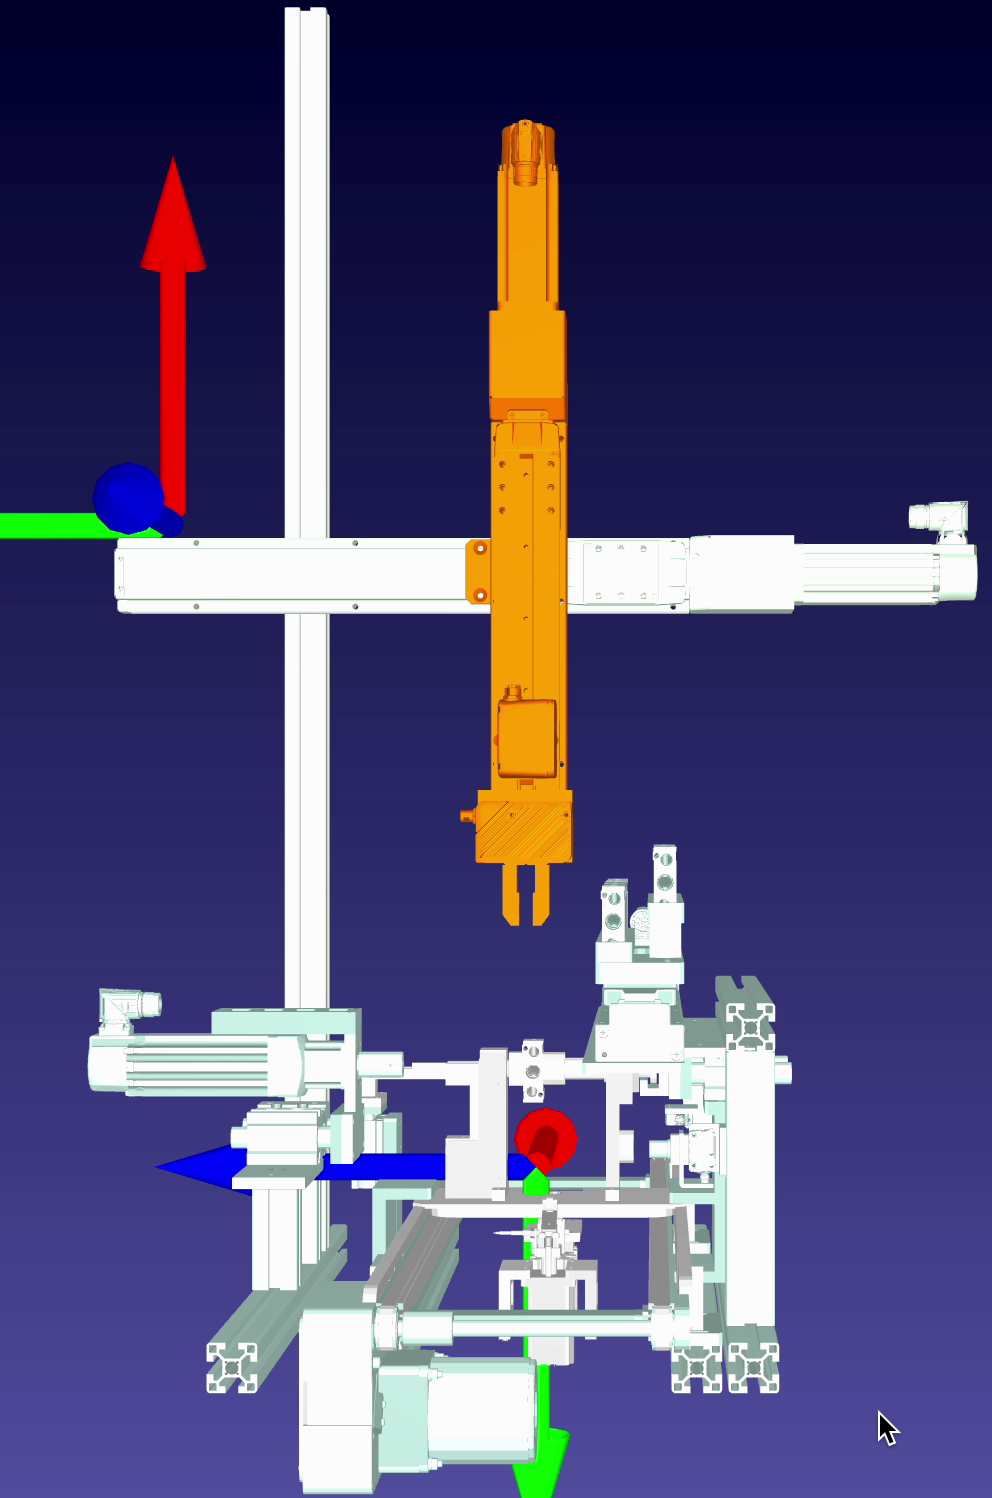Gripper: (448, 776, 588, 930)
